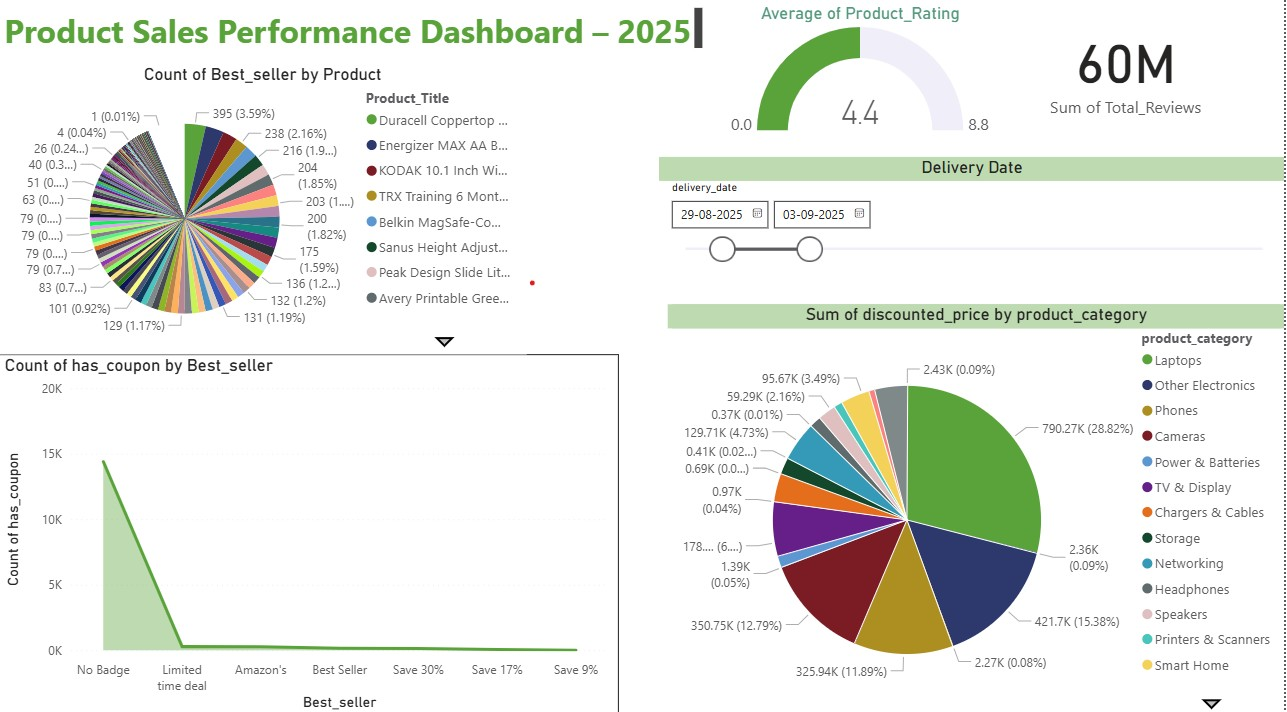

The page's visual inventory and layout, read from the dashboard file:
{"tool":"powerbi","page":{"name":"Page 1","canvas":[1280,720],"ordinal":0},"visuals":[{"type":"card","fields":{"Values":["Sum(amazon_products_sales_data_cleaned.Total_Reviews)"]},"box":[979,10,284.9,129.4],"z":0},{"type":"card","fields":{"Values":["Sum(amazon_products_sales_data_cleaned.Product_Rating)"]},"box":[293.6,379.4,302.3,107],"z":1000},{"type":"slicer","title":"Delivery Date","fields":{"Values":["amazon_products_sales_data_cleaned.delivery_date"]},"box":[656.8,163,623.2,146.8],"z":2000},{"type":"pieChart","title":"Sum of discounted_price by product_category","fields":{"Category":["amazon_products_sales_data_cleaned.product_category"],"Y":["CountNonNull(amazon_products_sales_data_cleaned.Product_Title)","Sum(amazon_products_sales_data_cleaned.discounted_price)"]},"box":[665.5,309.7,614.5,410.5],"z":3000},{"type":"areaChart","fields":{"Category":["amazon_products_sales_data_cleaned.is_best_seller"],"Y":["CountNonNull(amazon_products_sales_data_cleaned.has_coupon)"]},"box":[0,359.5,617,360.7],"z":4000},{"type":"gauge","fields":{"Y":["Avg(amazon_products_sales_data_cleaned.Product_Rating)","select"]},"box":[714,10,286.1,136.8],"z":5000},{"type":"pieChart","title":"Count of Best_seller by Product","fields":{"Category":["amazon_products_sales_data_cleaned.Product_Title"],"Y":["CountNonNull(amazon_products_sales_data_cleaned.Best_seller)"]},"box":[0,70.9,525,288.6],"z":6000},{"type":"textbox","box":[0,10,705.3,51],"z":7000}]}

Visuals, with their boxes in screenshot pixels (x1, y1, x2, y2), scaled from the page's 1280x720 canvas onto the 1287x712 screenshot:
card - Sum(amazon_products_sales_data_cleaned.Total_Reviews): detection(984, 10, 1271, 138)
card - Sum(amazon_products_sales_data_cleaned.Product_Rating): detection(295, 375, 599, 481)
"Delivery Date" slicer: detection(660, 161, 1286, 306)
"Sum of discounted_price by product_category" pieChart: detection(669, 306, 1286, 711)
areaChart - amazon_products_sales_data_cleaned.is_best_seller x CountNonNull(amazon_products_sales_data_cleaned.has_coupon): detection(0, 356, 620, 711)
gauge - Avg(amazon_products_sales_data_cleaned.Product_Rating) x select: detection(718, 10, 1006, 145)
"Count of Best_seller by Product" pieChart: detection(0, 70, 528, 356)
textbox: detection(0, 10, 709, 60)
